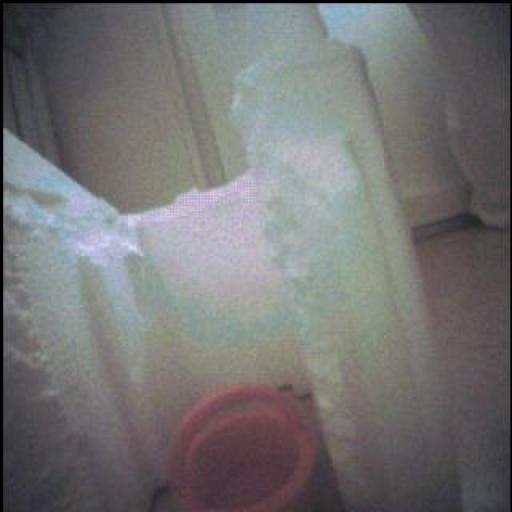Basket: (172, 385, 318, 512)
